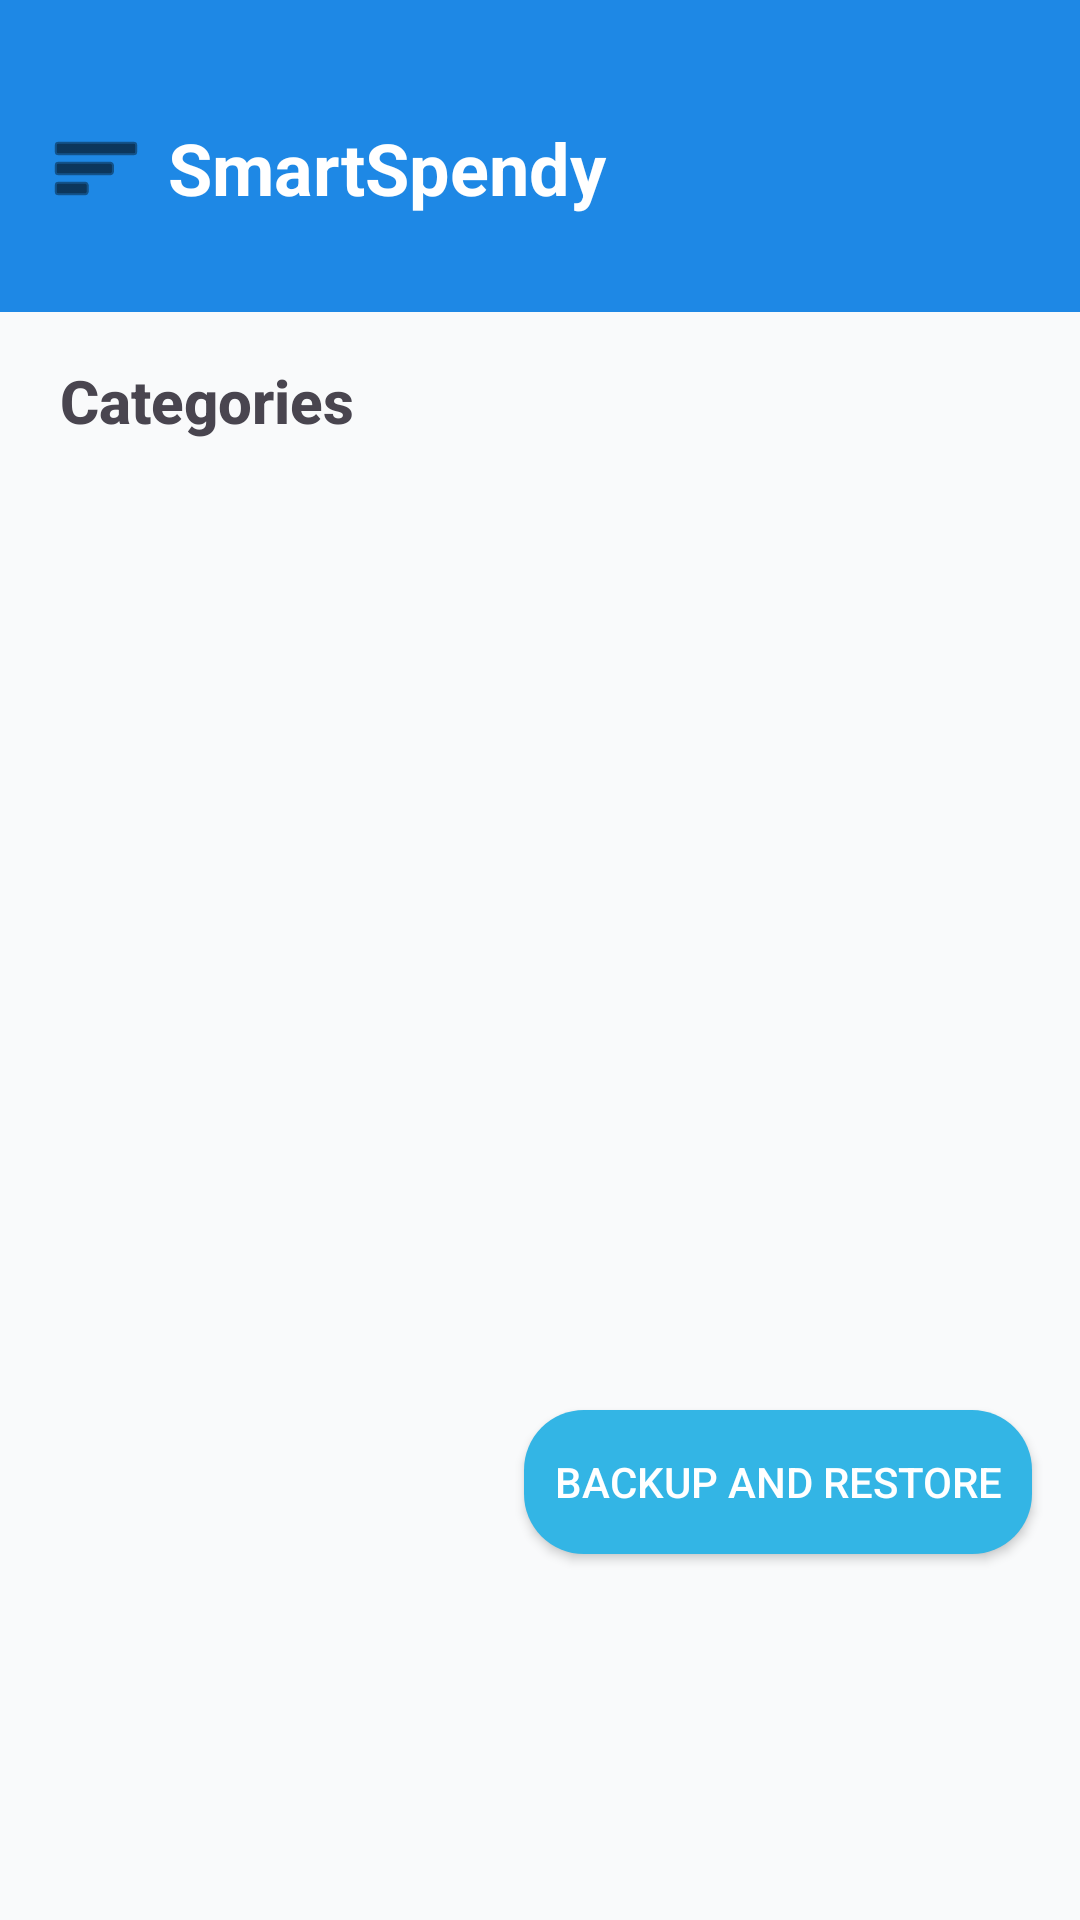

Icon click points for this 1080×1920 phone screenshot, format point (x, y):
Menu: point (96, 168)
